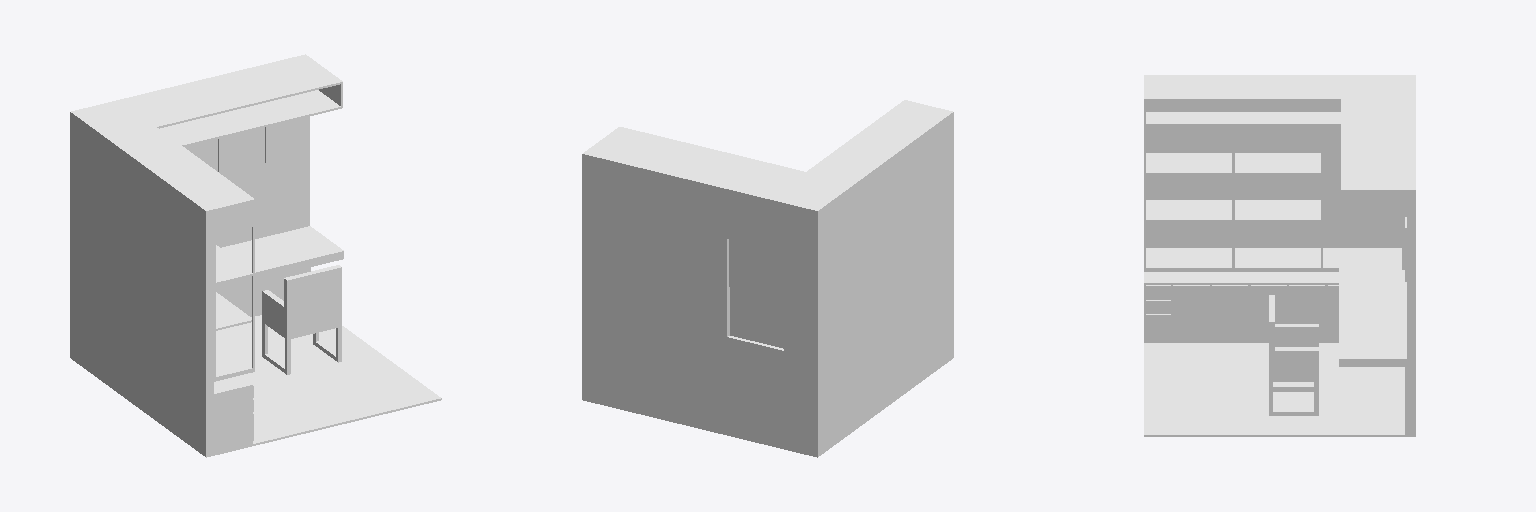
The model's file is proj01.obj.
The picture shows the model from 3 angles: view 1: azimuth 30°, elevation 25°; view 2: azimuth 150°, elevation 25°; view 3: azimuth 270°, elevation 25°; orthographic projection.
Visible parts, largest first — view 1: object 1; view 2: object 1; view 3: object 1.
Part boxes in pixels (x1,y1,x2,y2): object 1: (70,54,441,457); object 1: (582,100,953,457); object 1: (1144,75,1415,436).
Size of the model in its own units: 12 by 12 by 12.